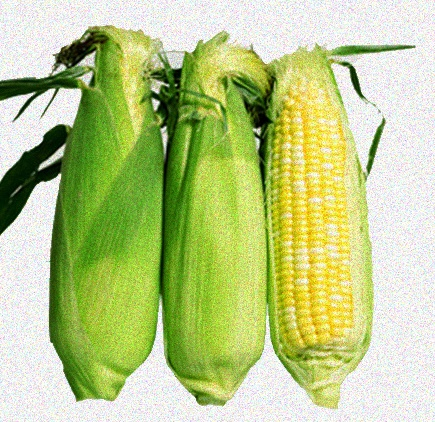corn: (265, 38, 373, 398)
corn_plant: (25, 16, 164, 403), (169, 37, 261, 396)
